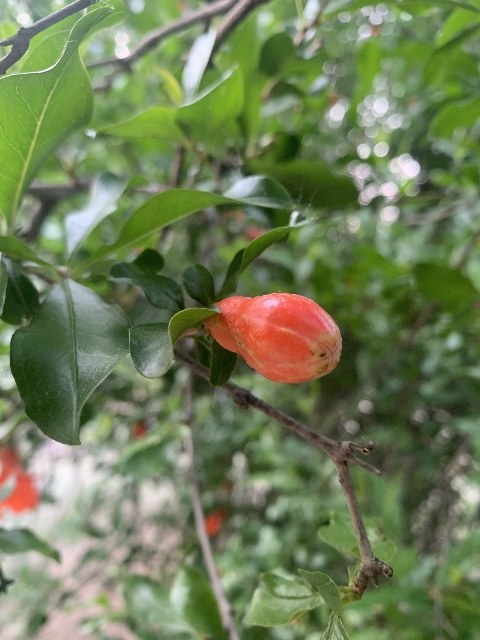bud: (203, 292, 342, 383)
